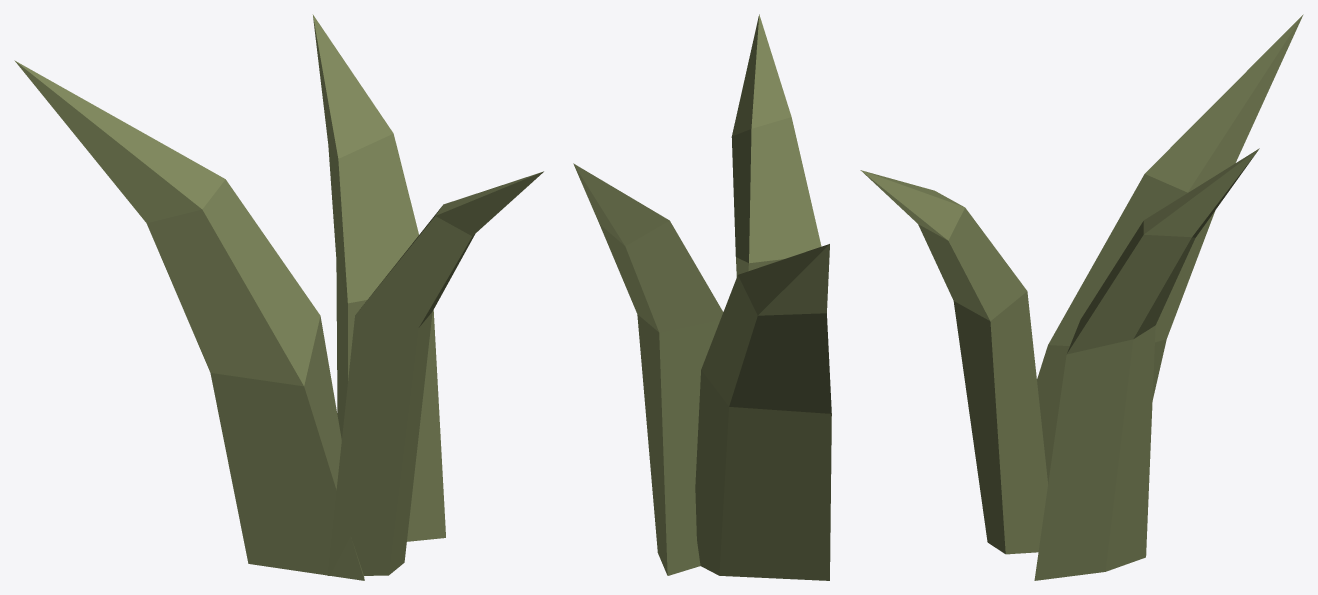
Rendered from env_grass2.gltf.
3 renders of one model, left to right at view 1: azimuth 30°, elevation 25°; view 2: azimuth 150°, elevation 25°; view 3: azimuth 270°, elevation 25°, orthographic. The views are drawn at different scales.
Visible parts, largest first — view 1: env_grass2; view 2: env_grass2; view 3: env_grass2.
Part boxes in pixels (<box>): env_grass2: <box>14,14,543,580</box>; env_grass2: <box>573,14,831,580</box>; env_grass2: <box>860,14,1303,580</box>.
Size of the model in its own units: 0.3285 by 0.4669 by 0.4366.
Materials: 1 (1 with a texture image).
